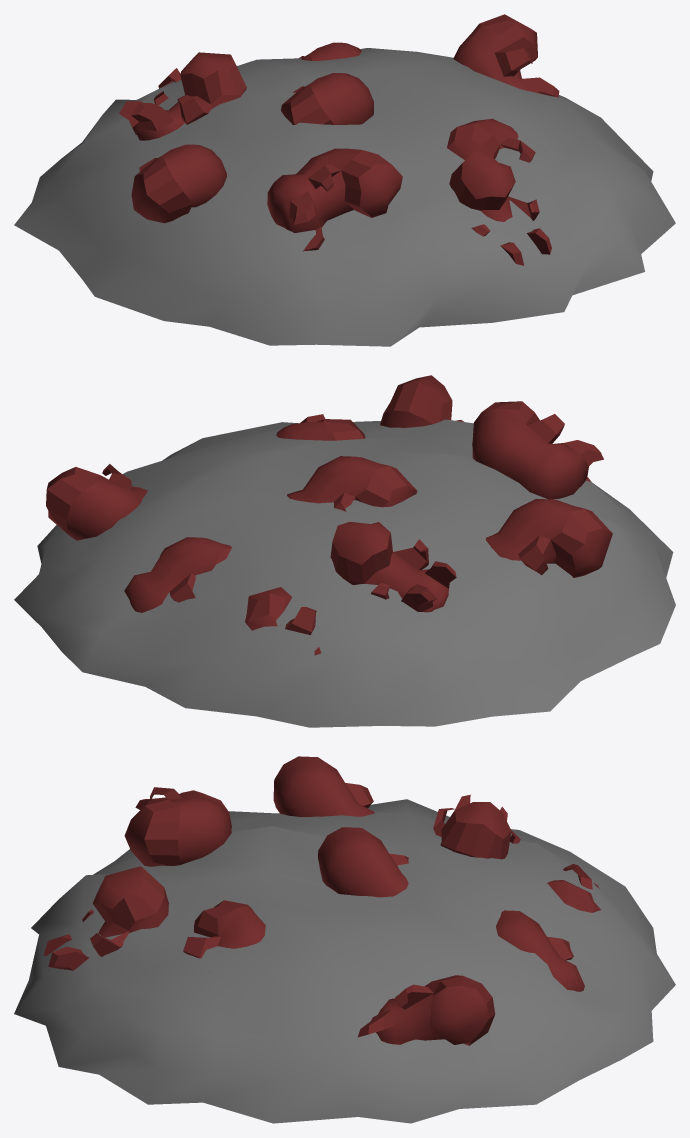
Rendered from Tierra con Fetos FBX.fbx.
3 renders of one model, top to bottom at view 1: azimuth 30°, elevation 25°; view 2: azimuth 150°, elevation 25°; view 3: azimuth 270°, elevation 25°, orthographic. The views are drawn at different scales.
Visible parts, largest first — view 1: pCube16; view 2: pCube16; view 3: pCube16.
Part boxes in pixels (<box>): pCube16: <box>14,14,675,346</box>; pCube16: <box>14,375,675,727</box>; pCube16: <box>14,756,675,1123</box>.
Size of the model in its own units: 0.0333 by 0.00849 by 0.0328.
